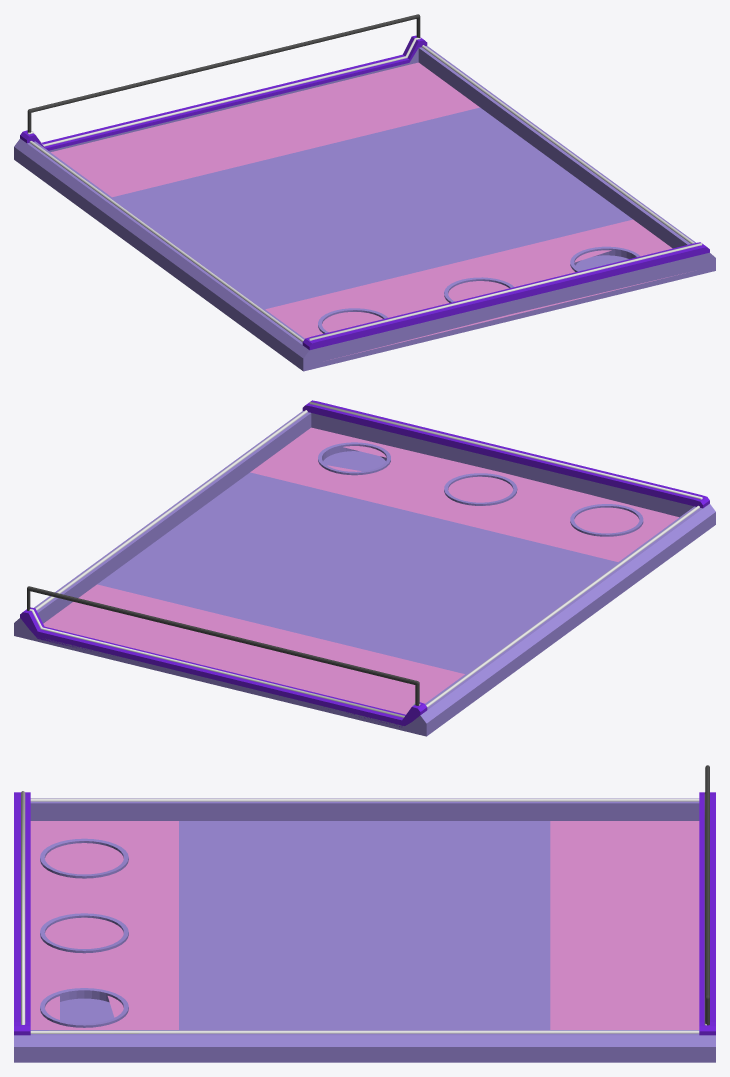
Rendered from Platform 3 Hole 3.fbx.
3 views of the same model, one above another, from view 1: azimuth 30°, elevation 25°; view 2: azimuth 150°, elevation 25°; view 3: azimuth 270°, elevation 25° (orthographic). The views are drawn at different scales.
Visible parts, largest first — view 1: 3HolePlatform-2; view 2: 3HolePlatform-2; view 3: 3HolePlatform-2.
Part boxes in pixels (x1,y1,x2,y2): 3HolePlatform-2: (14, 14, 715, 371); 3HolePlatform-2: (14, 400, 715, 736); 3HolePlatform-2: (14, 765, 715, 1062).
Size of the model in its own units: 2504 by 289 by 3043.
